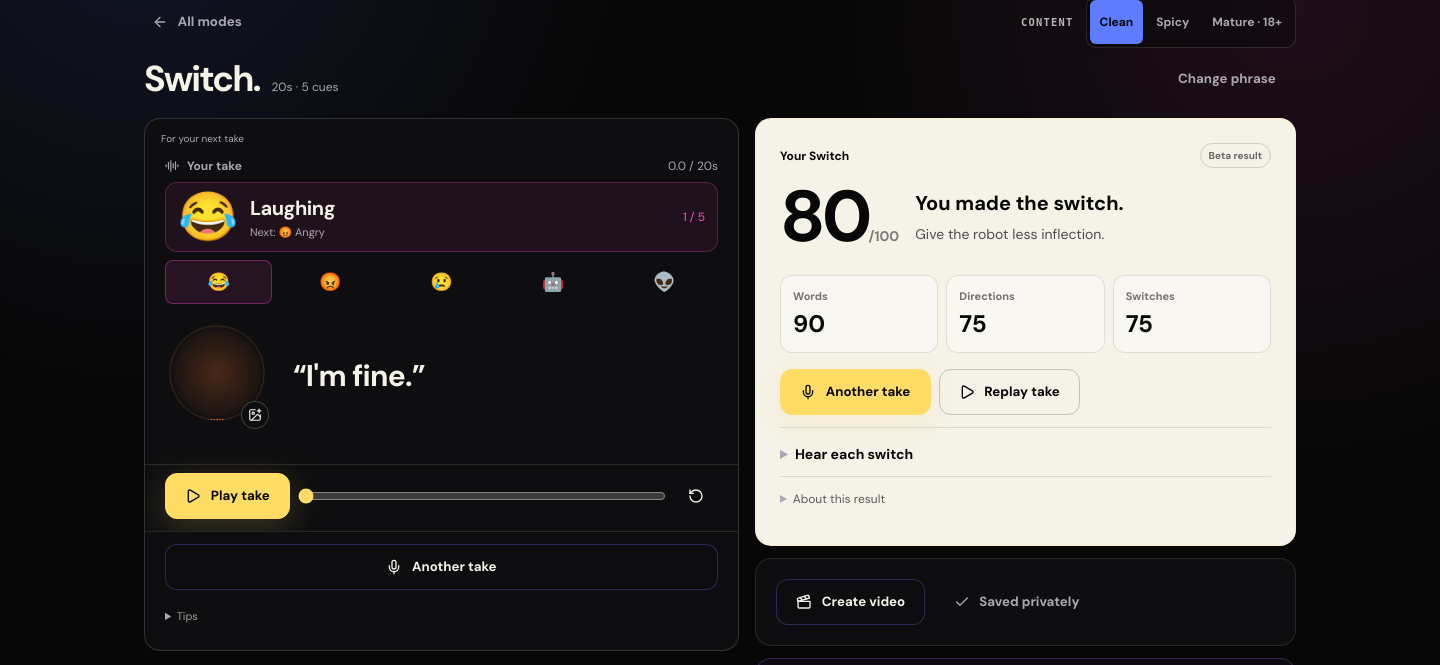
Switch take recovery and immutable playback › reopens the saved snapshot and jumps from its segment feedback even when the current catalog changed
Click the heading "Hear each switch": (854, 454) x1=795 y1=445 x2=913 y2=463
(page scrolled)
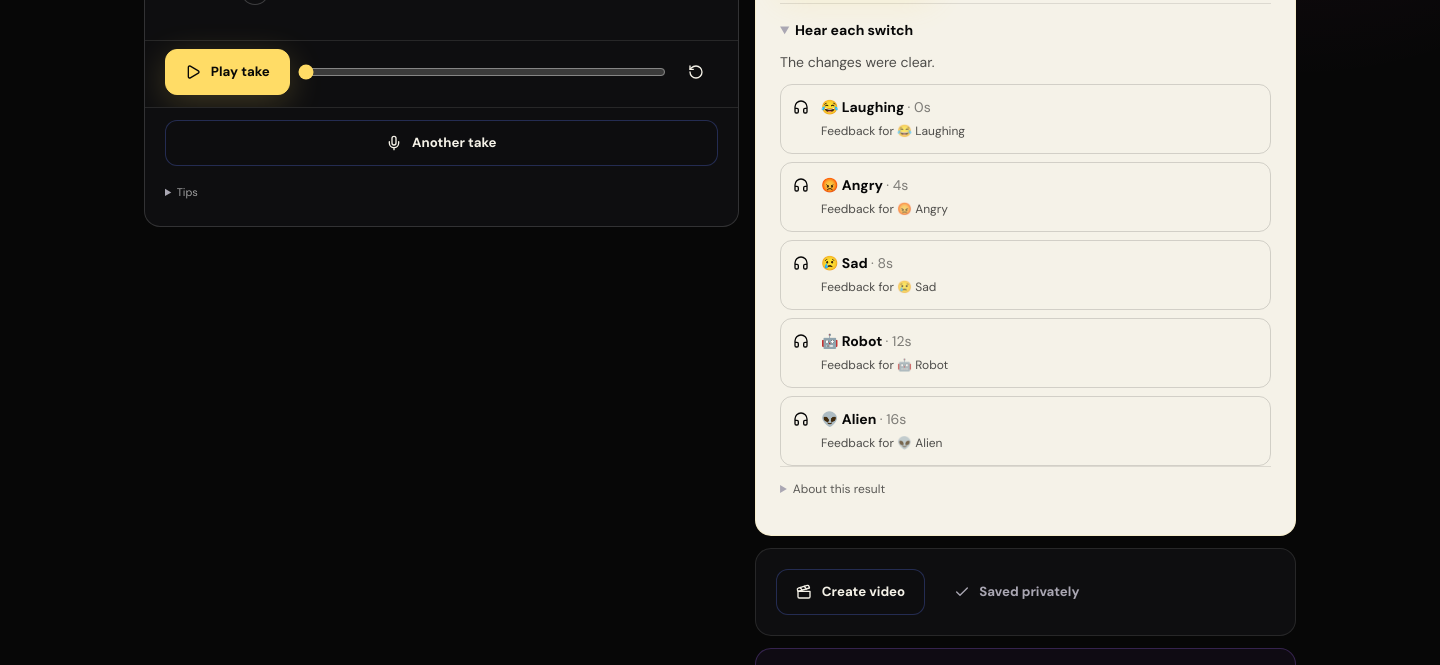
Click the button "🤖 Robot · 12s Feedback for 🤖 Robot": (852, 341) x1=780 y1=318 x2=1271 y2=388
(page scrolled)
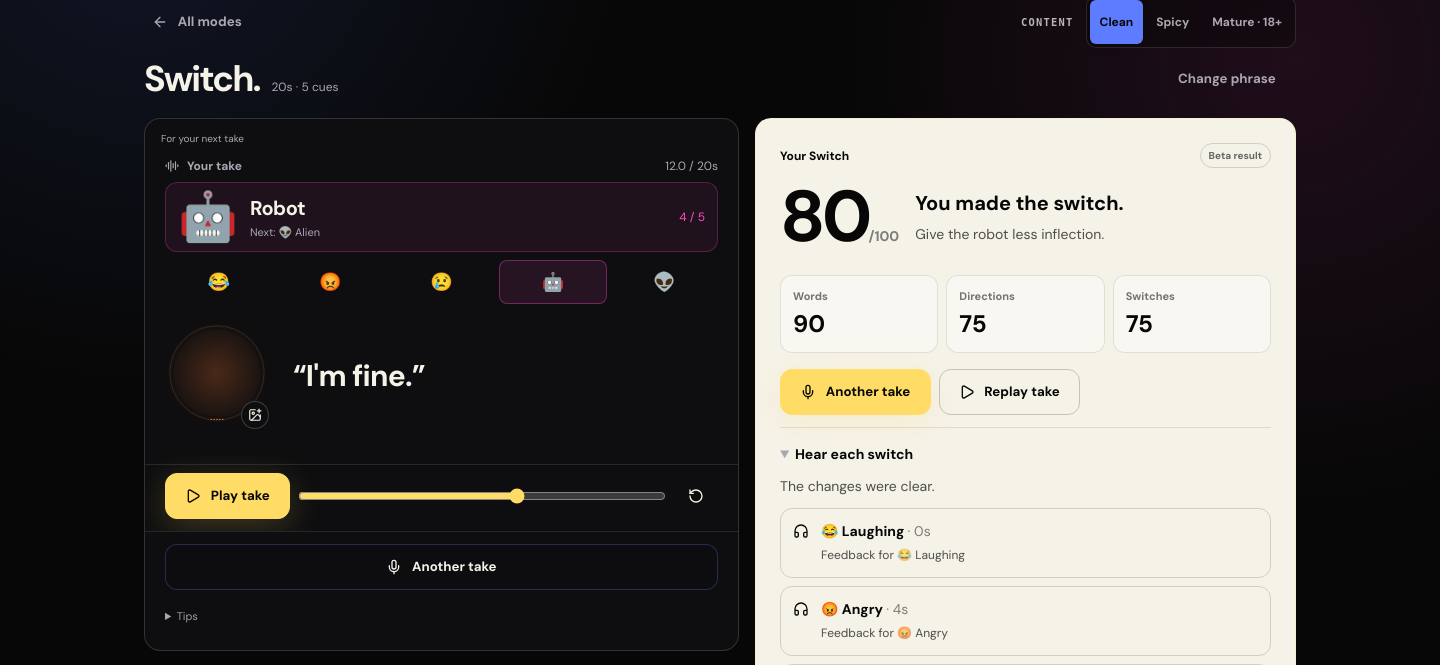
Result: the heading named "🤖 Robot" is shown at x1=250 y1=195 x2=305 y2=221
